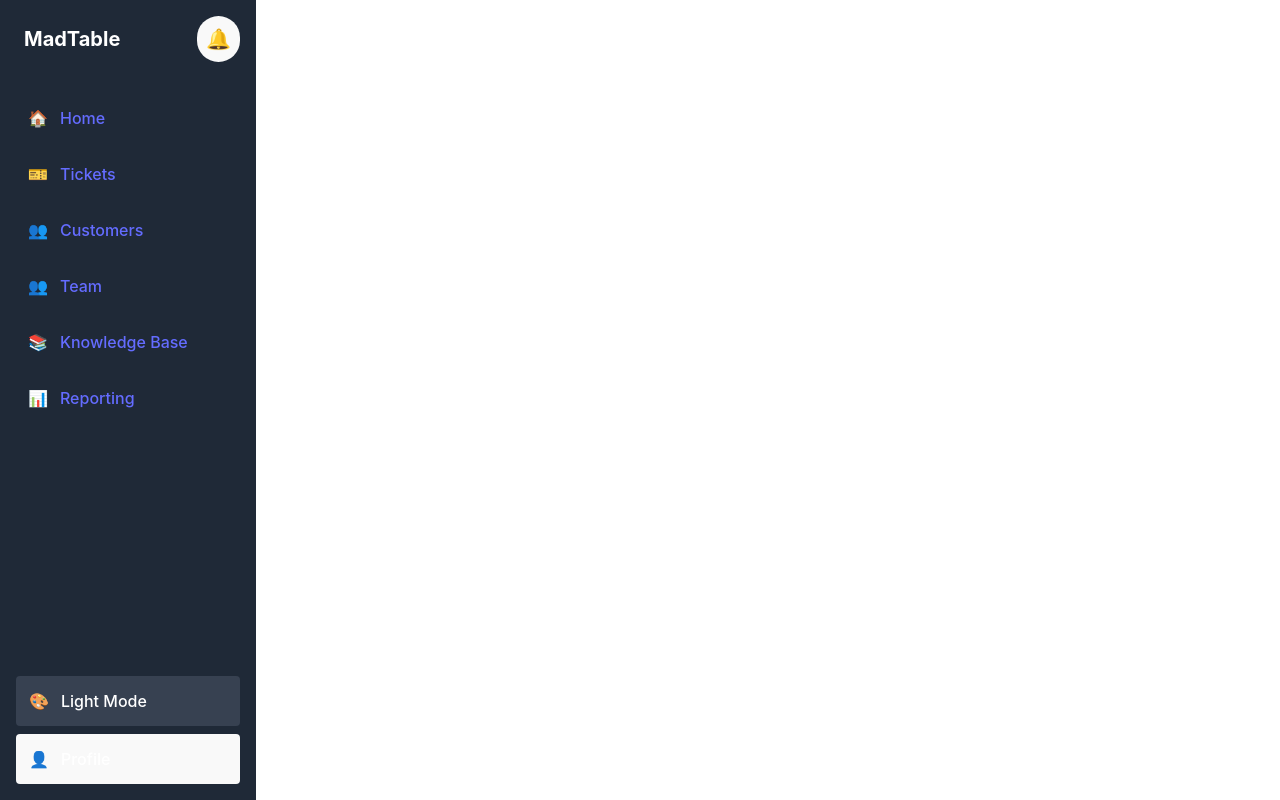
Sidebar › opens ProfilePopout when Profile button is clicked
Click the button "👤 Profile".
click(128, 759)  # box [16,734,240,784]
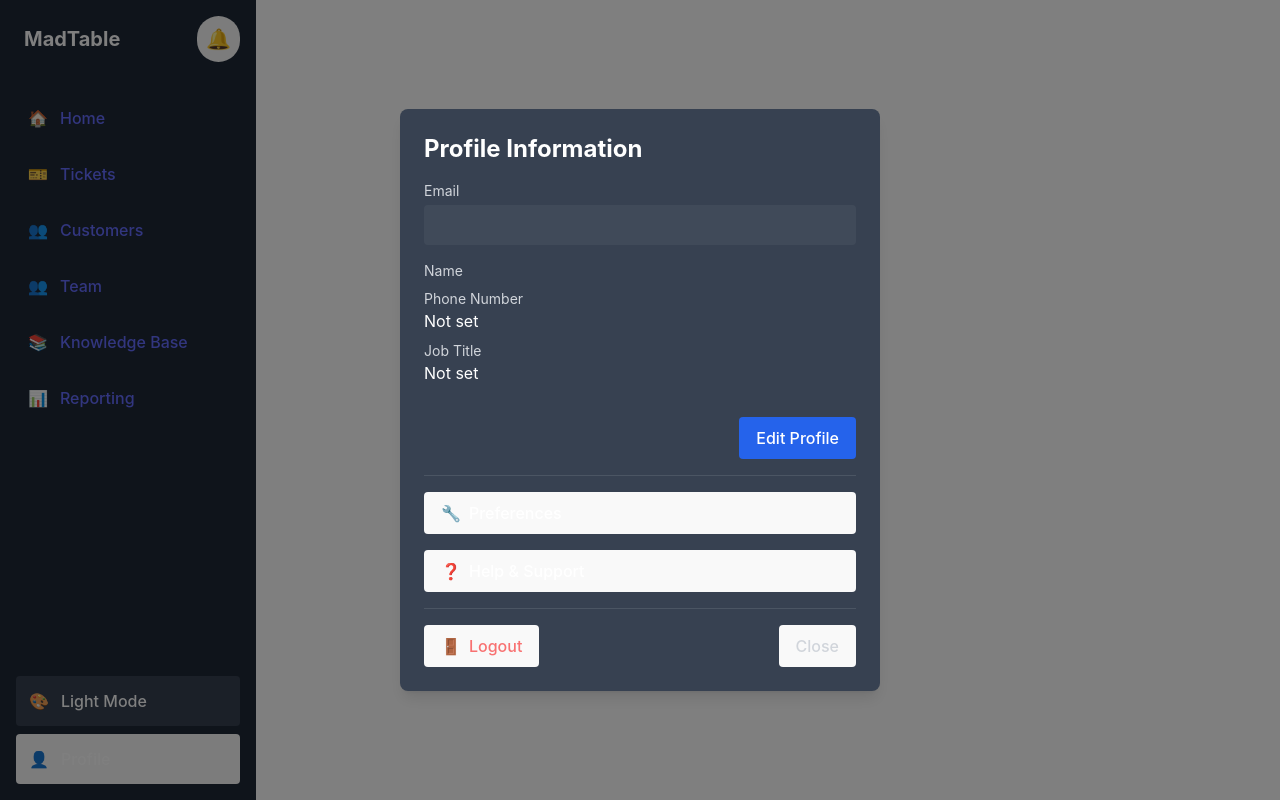
Check: the heading "Profile Information" is shown, box [424,134,642,163]
